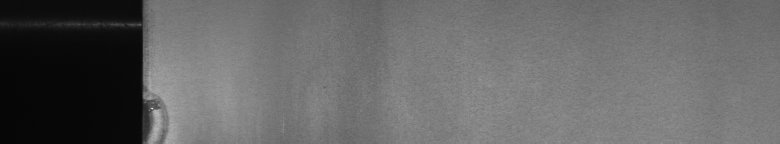hb: (152, 88, 175, 136)
